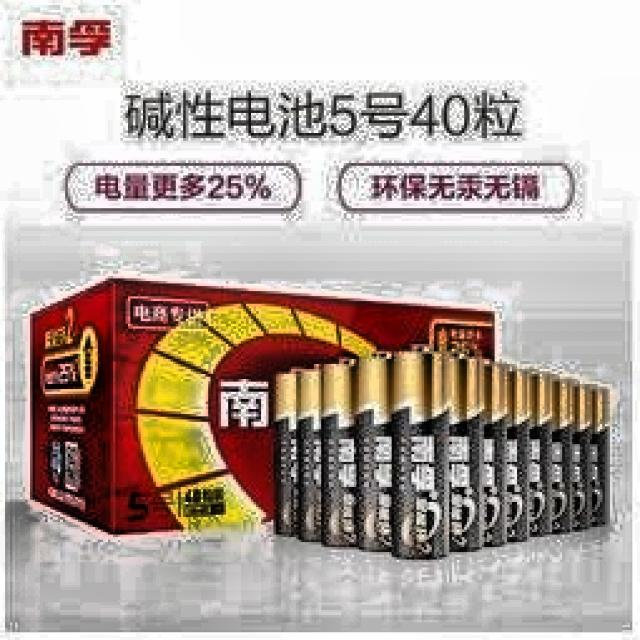Non-Valuable Waste - Batteries: (271, 349, 609, 559)
